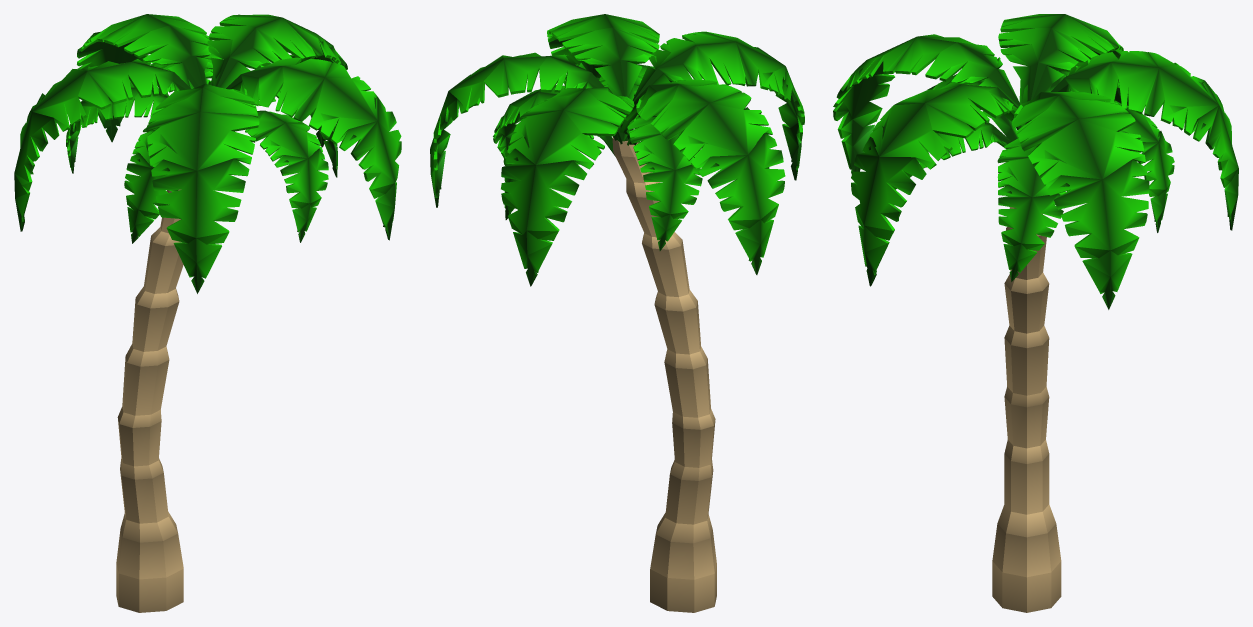
The model's file is palm1.fbx.
3 renders of one model, left to right at view 1: azimuth 30°, elevation 25°; view 2: azimuth 150°, elevation 25°; view 3: azimuth 270°, elevation 25°, orthographic. The views are drawn at different scales.
Visible parts, largest first — view 1: Palma; view 2: Palma; view 3: Palma.
Part boxes in pixels (box(x1,y1,x2,y2)): Palma: box(14, 14, 401, 612); Palma: box(430, 14, 804, 612); Palma: box(833, 14, 1238, 612).
Bounding box in the file's own units: 3.51 × 3.54 × 5.44.
